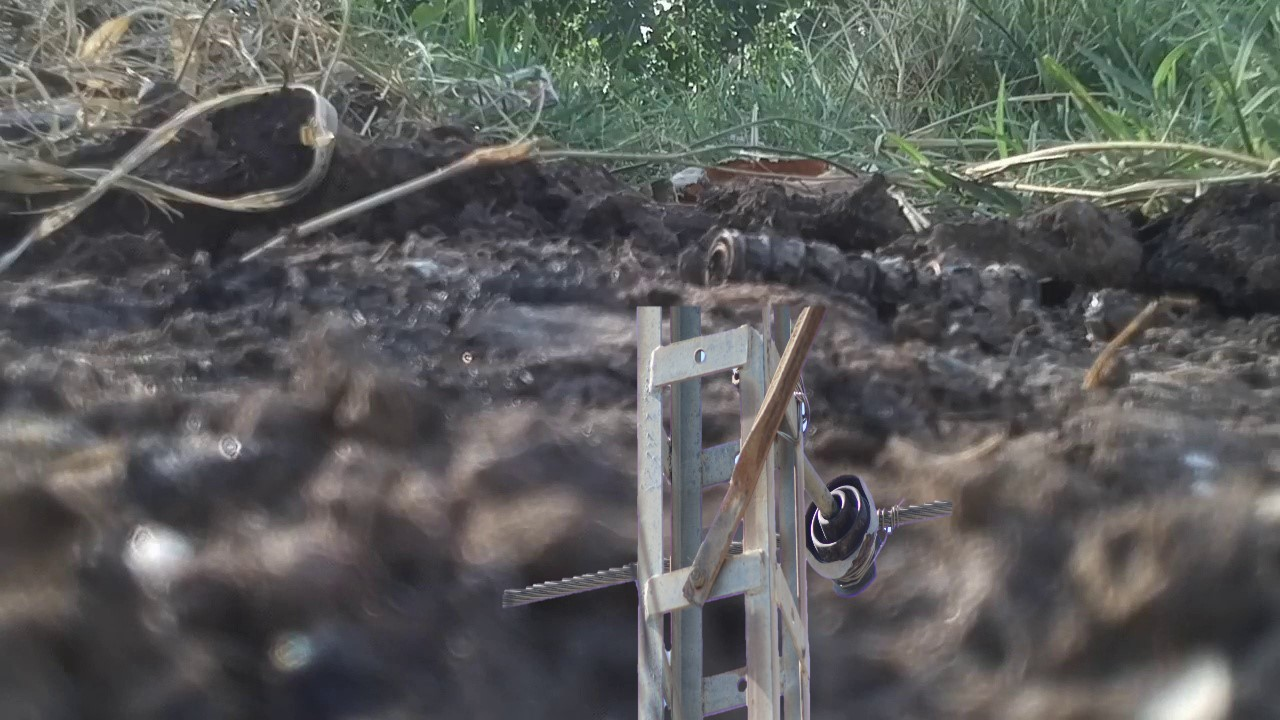defect_pin: (797, 469, 892, 598)
